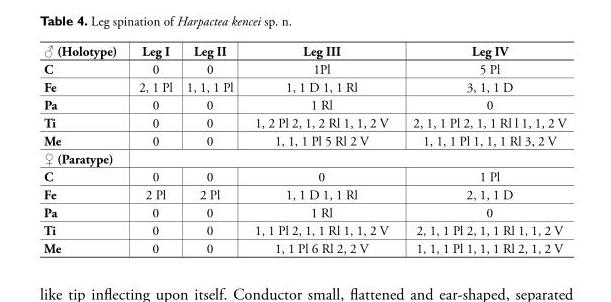table: (43, 42, 565, 256)
table column: (400, 42, 565, 256), (243, 42, 400, 256), (43, 42, 127, 256), (178, 42, 243, 256), (127, 42, 178, 256)
table projected row header: (43, 149, 565, 167)
table row: (43, 59, 565, 78), (43, 95, 565, 113), (43, 113, 565, 131), (43, 131, 565, 149), (43, 149, 565, 167), (43, 167, 565, 185), (43, 185, 565, 203), (43, 203, 565, 221), (43, 221, 565, 239), (43, 42, 565, 59), (43, 78, 565, 95), (43, 239, 565, 256)
